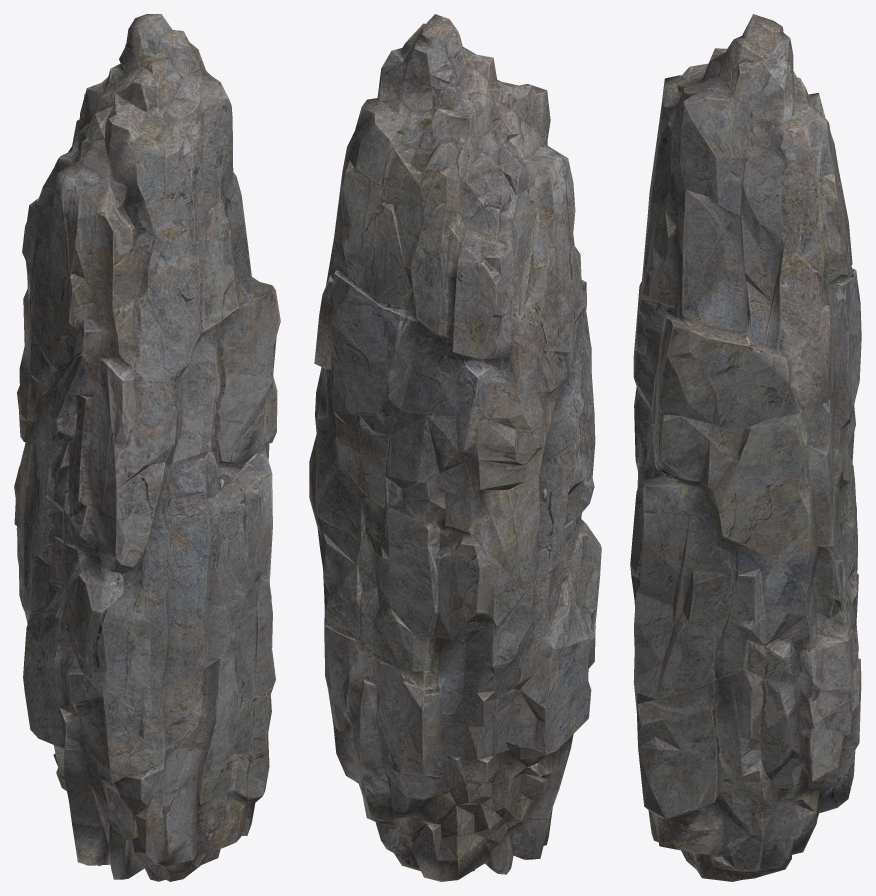
The model's file is bg_anh_stone_janggakstone_sm_sup.FBX.
3 views of the same model, side by side, from view 1: azimuth 30°, elevation 25°; view 2: azimuth 150°, elevation 25°; view 3: azimuth 270°, elevation 25° (orthographic).
Visible parts, largest first — view 1: bg_anh_stone_janggakstone_sm_sup; view 2: bg_anh_stone_janggakstone_sm_sup; view 3: bg_anh_stone_janggakstone_sm_sup.
Boxes of the visible parts, left/top/right/bottom form: bg_anh_stone_janggakstone_sm_sup: left=14, top=14, right=280, bottom=881; bg_anh_stone_janggakstone_sm_sup: left=309, top=14, right=601, bottom=881; bg_anh_stone_janggakstone_sm_sup: left=630, top=14, right=861, bottom=881.
Size of the model in its own units: 757 by 2728 by 666.
